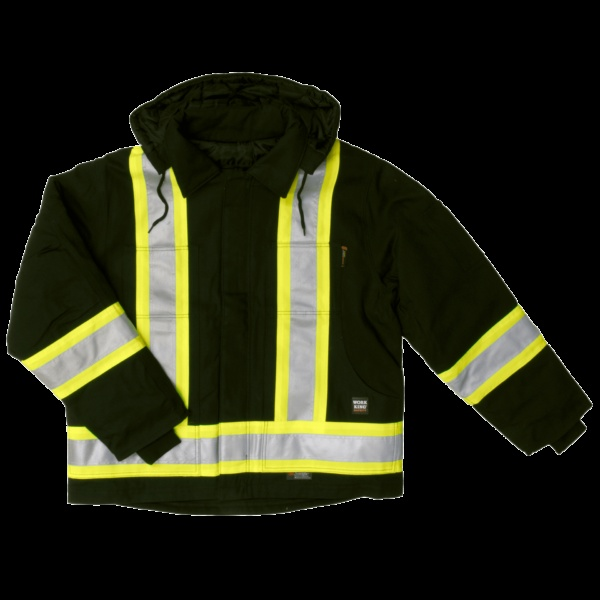safety vest: (73, 93, 396, 514)
